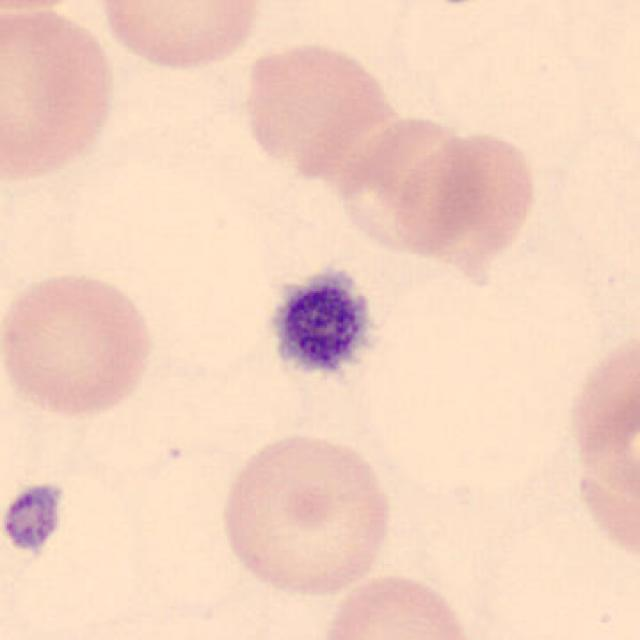Platelets: (262, 265, 381, 386), (0, 479, 68, 559)
RBC: (214, 426, 398, 600), (325, 109, 491, 261), (0, 266, 160, 422), (236, 35, 402, 178), (0, 0, 121, 187), (391, 127, 542, 271), (562, 322, 640, 538), (89, 0, 267, 74), (314, 569, 482, 640), (0, 0, 103, 16)
